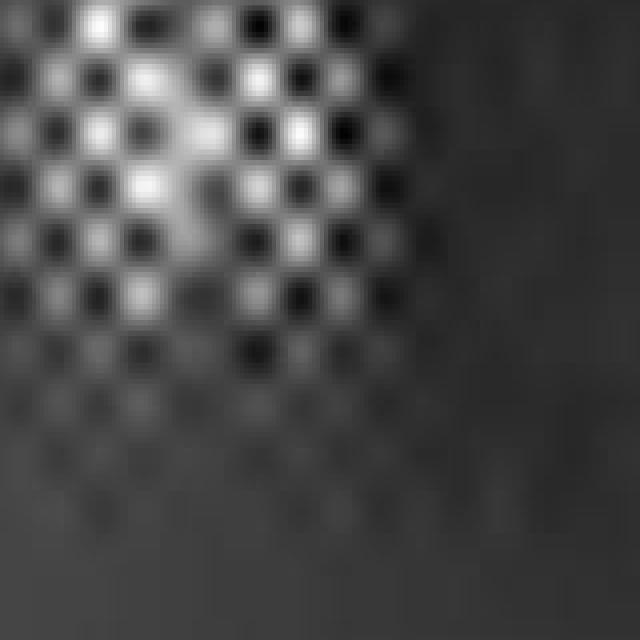person: (57, 1, 389, 422)
